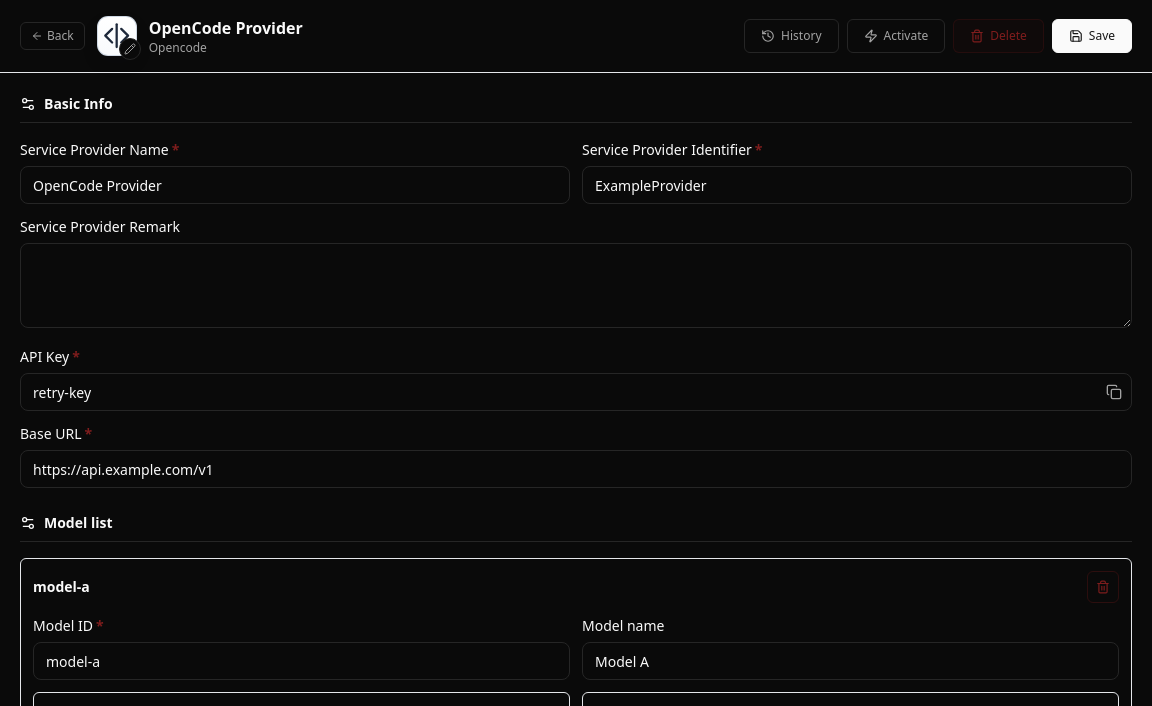
it: ServiceProviderDetail OpenCode model form › does not report clipboard failures as success and allows retry
The width and height of the screenshot is (1152, 706).
What coordinates should you click on to do the following:
click the button named "Copy API Key"
I would click on:
 (1114, 392)
Its box is [1100, 378, 1128, 406].
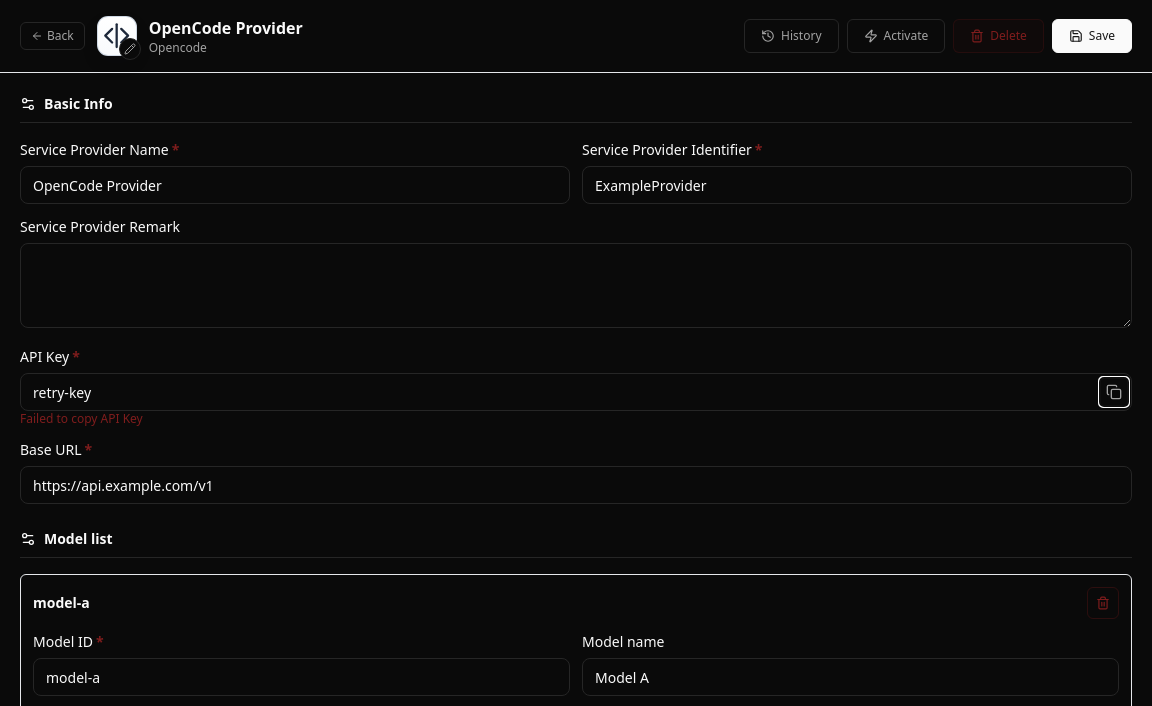
Check: the message reads "Failed to copy API Key", box [20, 410, 143, 427]
What coordinates should you click on to do the following:
click the button named "Copy API Key"
I would click on:
 (1114, 392)
Its box is [1100, 378, 1128, 406].
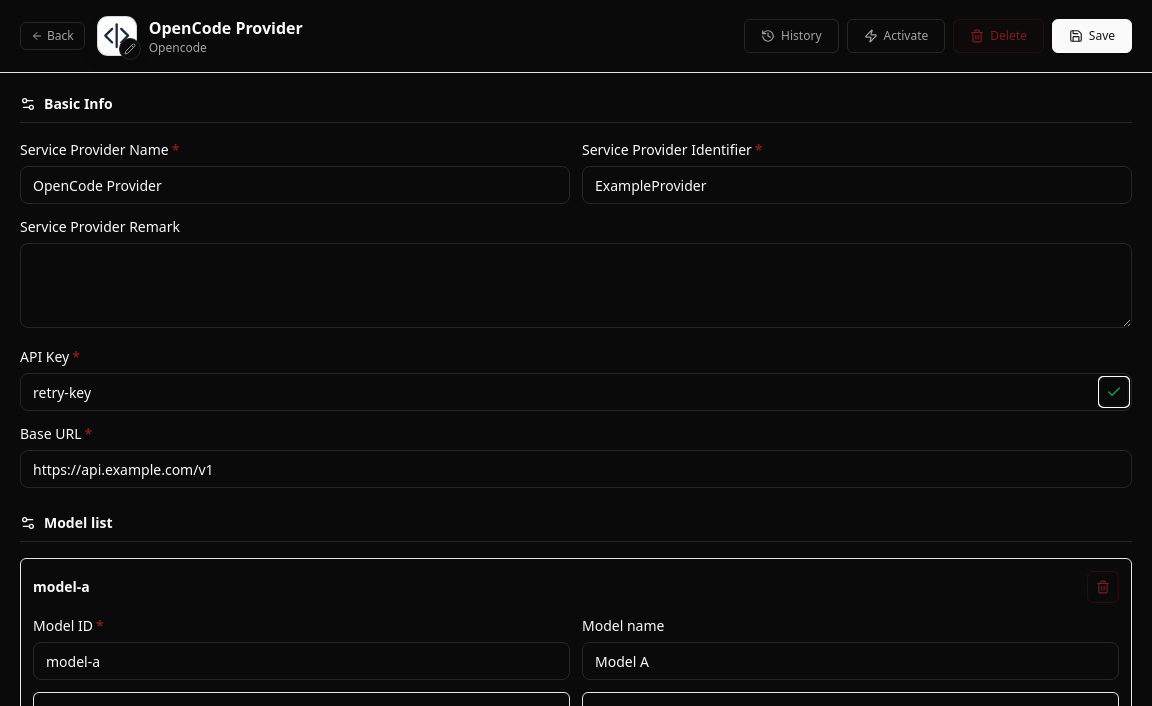
Check: the button named "API Key copied" is shown, box [1100, 378, 1128, 406]
